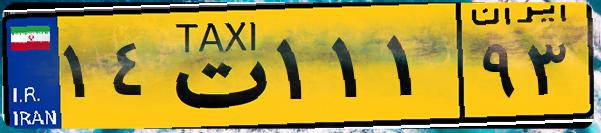1: (270, 28, 330, 110), (385, 28, 445, 110), (330, 28, 385, 110), (57, 26, 110, 100)
3: (525, 38, 570, 115)
4: (110, 28, 158, 98)
9: (475, 38, 525, 113)
ت: (158, 12, 270, 120)
